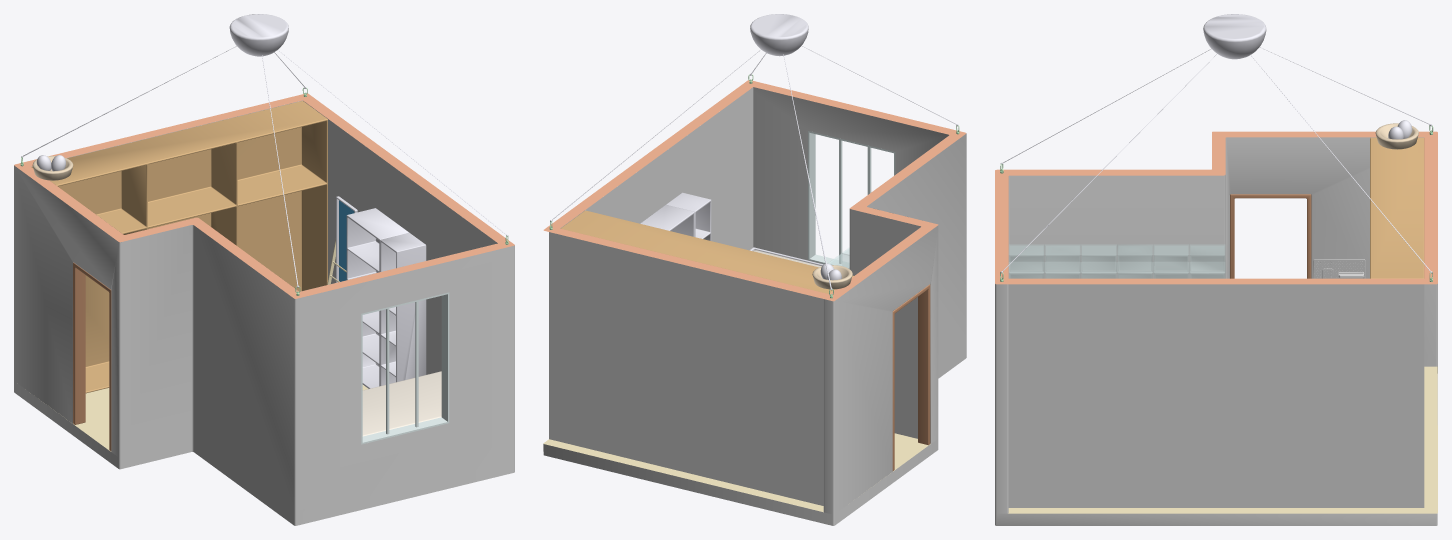
File: static.glb
The picture shows the model from 3 angles, left to right: view 1: azimuth 30°, elevation 25°; view 2: azimuth 150°, elevation 25°; view 3: azimuth 270°, elevation 25°; orthographic projection. The views are drawn at different scales.
Visible parts, largest first — view 1: 3DGeom-28, 3DGeom-36, 3DGeom-27, 3DGeom-29, 3DGeom-59, 3DGeom-30, 3DGeom-31, 3DGeom-51, 3DGeom-48; view 2: 3DGeom-28, 3DGeom-29, 3DGeom-36, 3DGeom-27, 3DGeom-31, 3DGeom-51, 3DGeom-30, 3DGeom-2; view 3: 3DGeom-28, 3DGeom-29, 3DGeom-3, 3DGeom-36, 3DGeom-51, 3DGeom-27, 3DGeom-31, 3DGeom-40, 3DGeom-2.
Part boxes in pixels (x1,y1,x2,y2): 3DGeom-28: [14, 100, 514, 525]; 3DGeom-36: [31, 101, 327, 393]; 3DGeom-27: [21, 14, 507, 388]; 3DGeom-29: [14, 93, 514, 298]; 3DGeom-59: [362, 371, 441, 436]; 3DGeom-30: [361, 292, 449, 444]; 3DGeom-31: [73, 262, 111, 450]; 3DGeom-51: [66, 239, 368, 451]; 3DGeom-48: [339, 200, 354, 281]; 3DGeom-28: [543, 87, 966, 525]; 3DGeom-29: [543, 80, 966, 301]; 3DGeom-36: [561, 210, 853, 293]; 3DGeom-27: [550, 14, 958, 290]; 3DGeom-31: [892, 284, 930, 470]; 3DGeom-51: [543, 433, 930, 512]; 3DGeom-30: [808, 131, 895, 268]; 3DGeom-2: [812, 265, 852, 289]; 3DGeom-28: [995, 137, 1437, 525]; 3DGeom-29: [995, 131, 1437, 284]; 3DGeom-3: [1008, 244, 1225, 278]; 3DGeom-36: [1370, 137, 1424, 278]; 3DGeom-51: [1008, 366, 1437, 513]; 3DGeom-27: [1000, 14, 1432, 273]; 3DGeom-31: [1230, 194, 1311, 278]; 3DGeom-40: [1313, 259, 1365, 278]; 3DGeom-2: [1375, 123, 1418, 149].
Size of what is drawn, in the model's own units: 4 by 5.19 by 4.9.
